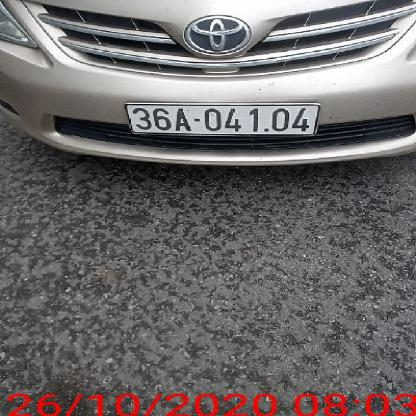biensoxe: (122, 97, 320, 139)
